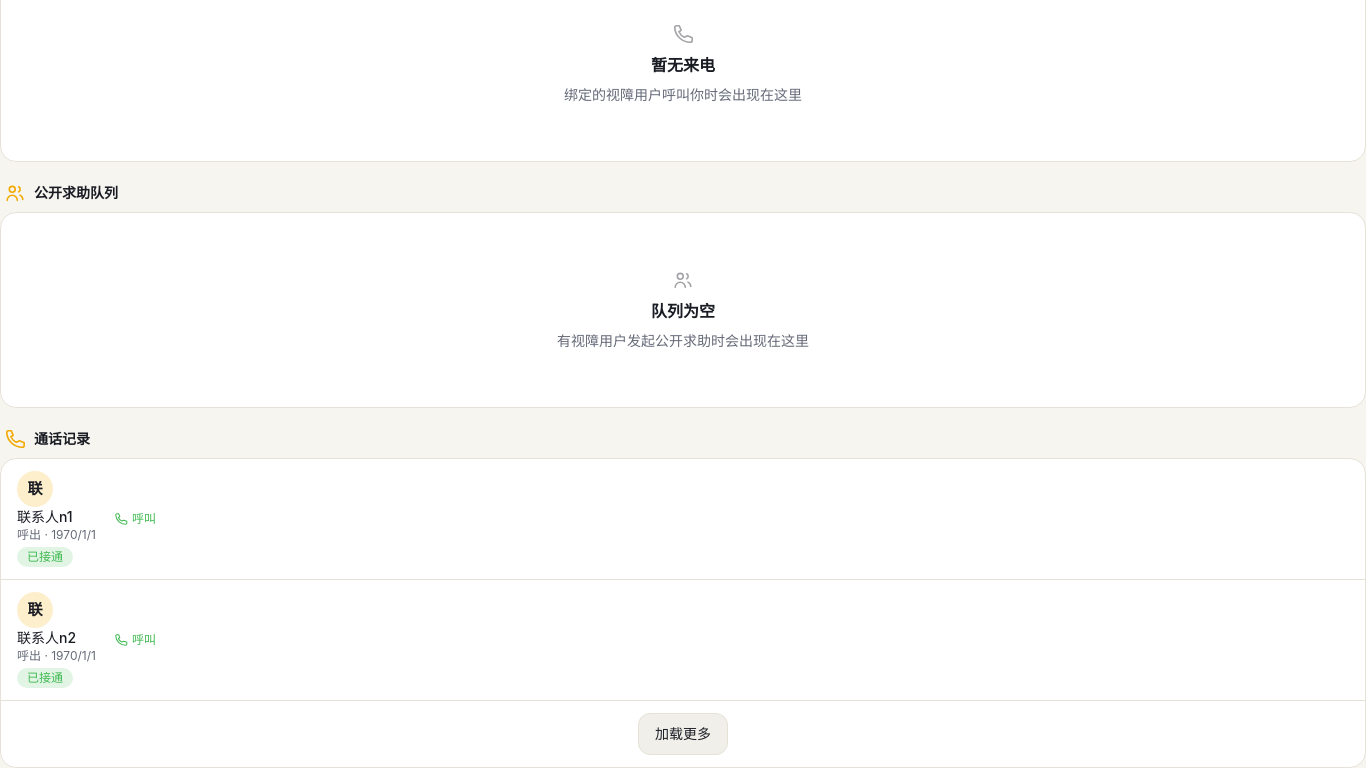
Test: CallsPage 通话记录"加载更多"（silent cap 修复：不再只见最近 100 条） › hasMore 时显示"加载更多"；点击→用最早一条为游标翻页并追加；到底后按钮消失
(page scrolled)
Check: the text "联系人n1" is shown, box [17, 507, 73, 527]
Click the button "加载更多" at (683, 734), box [638, 713, 728, 755]
(page scrolled)
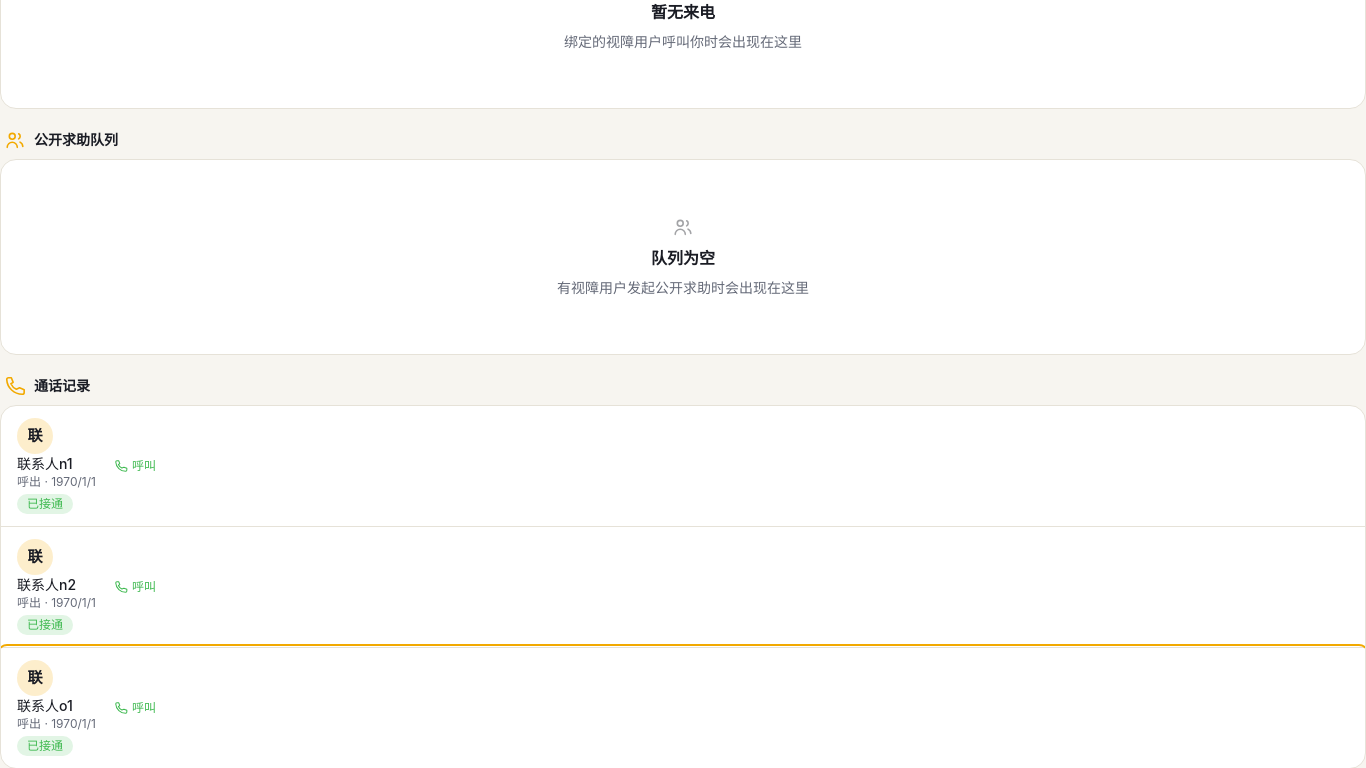
Check: the text "联系人n1" is shown, box [17, 454, 73, 474]
Check: the text "联系人o1" is shown, box [17, 696, 73, 716]
Check: the button "加载更多" is gone
